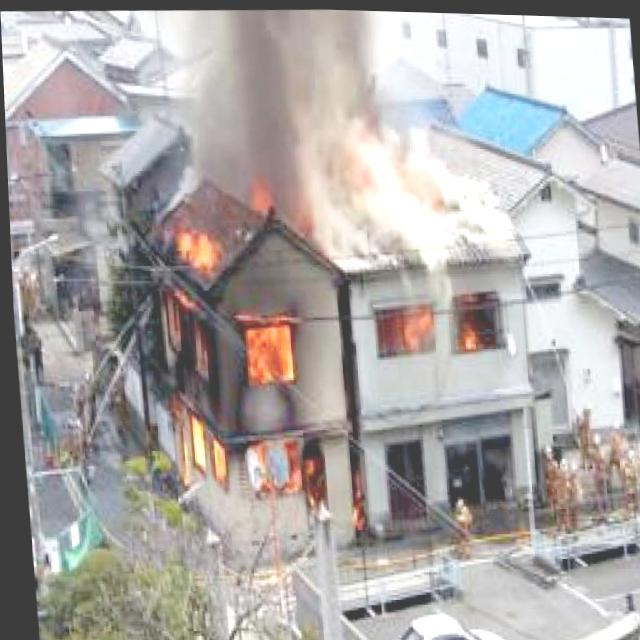Fire: (145, 221, 324, 529), (364, 296, 499, 352)
Smoke: (168, 4, 527, 273)
